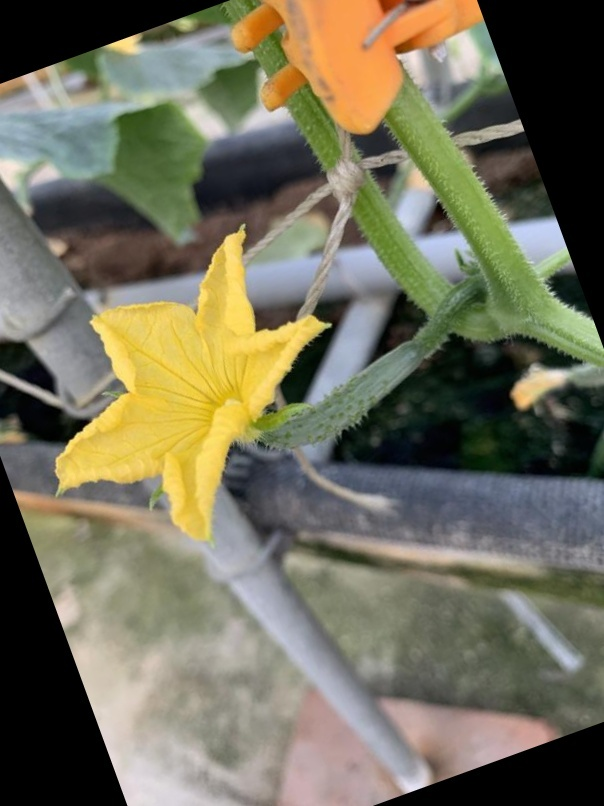flowering: (60, 219, 386, 551)
